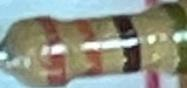Brown: (109, 13, 146, 71)
Orange: (73, 16, 108, 74)
Red: (33, 17, 71, 83)
Side-Gold: (158, 1, 187, 71)
